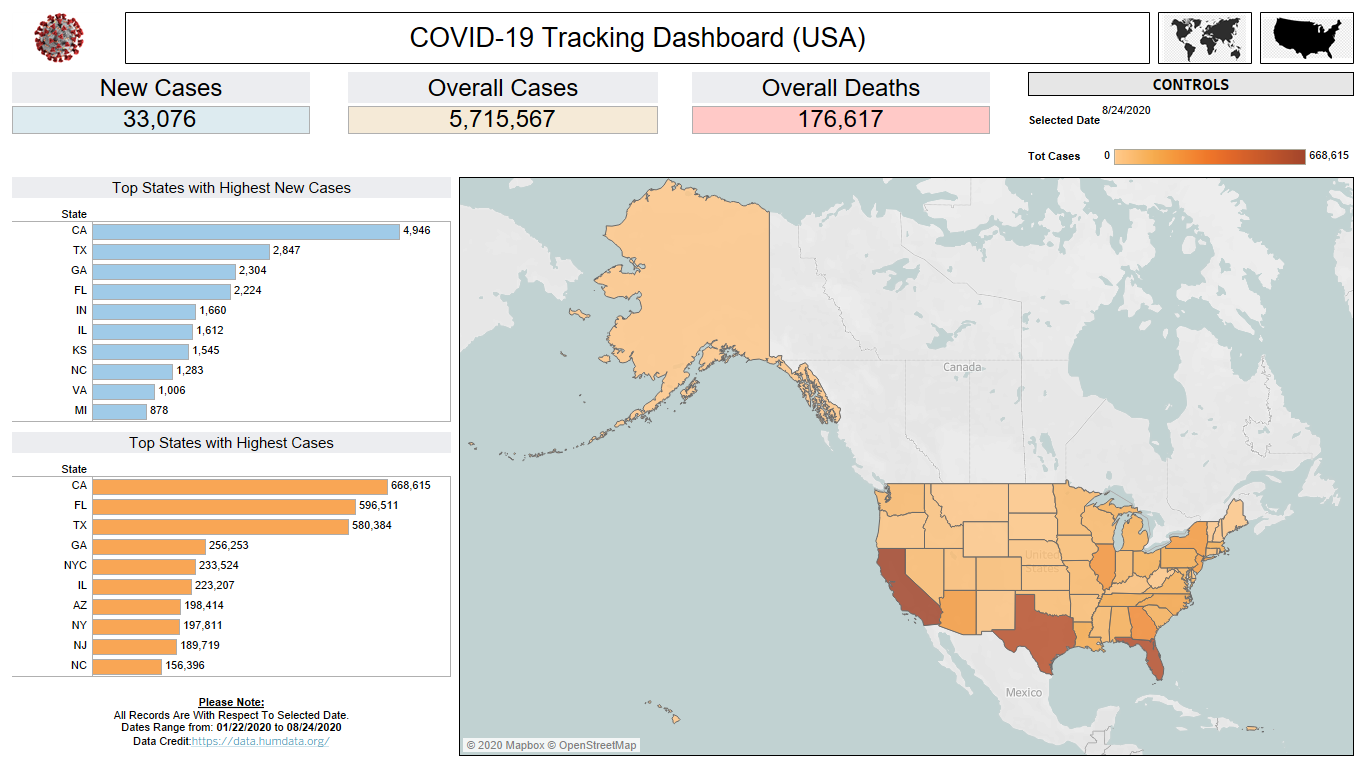

What the dashboard file says about the page in this screenshot:
{"tool":"tableau","page":{"name":"COVID 19 USA","canvas":[1366,768],"ordinal":1},"visuals":[{"type":"worksheet","box":[0,0,1366,768]},{"type":"worksheet","param":"horz","box":[8,8,1350,752]},{"type":"worksheet","box":[8,8,1350,752]},{"type":"worksheet","param":"Image/Covid.jpg","box":[8,8,113,60]},{"type":"worksheet","box":[121,8,1033,60]},{"type":"worksheet","box":[1154,8,102,60]},{"type":"worksheet","box":[1256,8,102,60]},{"type":"worksheet","param":"horz","box":[8,68,1350,692]},{"type":"worksheet","param":"horz","box":[8,68,1350,692]},{"type":"worksheet","param":"horz","box":[8,68,1350,692]},{"type":"worksheet","param":"horz","box":[8,68,1350,692]},{"type":"worksheet","box":[8,68,1350,692]},{"type":"worksheet","title":"USA New Cases","mark":"Automatic","box":[8,68,336,105]},{"type":"worksheet","title":"USA Overall Cases","mark":"Automatic","box":[344,68,344,105]},{"type":"worksheet","title":"USA Deaths","mark":"Automatic","box":[688,68,336,105]},{"type":"worksheet","box":[1024,68,334,32]},{"type":"worksheet","title":"USA_Map","mark":"Automatic","param":"[federated.086q8de1cc8fks166mtil0eheaoq].[none:submission_date:ok]","box":[1024,100,334,41]},{"type":"worksheet","title":"USA_Map","mark":"Automatic","param":"[federated.086q8de1cc8fks166mtil0eheaoq].[sum:tot_cases:qk]","box":[1024,141,334,32]},{"type":"worksheet","param":"horz","box":[8,173,1350,587]},{"type":"worksheet","box":[8,173,1350,587]},{"type":"worksheet","title":"Top USA New Cases","mark":"Automatic","rows":["state"],"cols":["new_case"],"box":[8,173,447,255.3]},{"type":"worksheet","title":"USA_Map","mark":"Automatic","box":[455,173,903,587]},{"type":"worksheet","title":"Top USA Cases","mark":"Automatic","rows":["state"],"cols":["tot_cases"],"box":[8,428.3,447,256.3]},{"type":"worksheet","box":[8,684.6,447,75.4]}]}

Visuals, with their boxes in screenshot pixels (x1, y1, x2, y2), scaled from the page's 1366x768 canvas onto the 1366x768 screenshot:
worksheet: 0 0 1365 767
worksheet: 8 8 1358 760
worksheet: 8 8 1358 760
worksheet: 8 8 121 68
worksheet: 121 8 1154 68
worksheet: 1154 8 1256 68
worksheet: 1256 8 1358 68
worksheet: 8 68 1358 760
worksheet: 8 68 1358 760
worksheet: 8 68 1358 760
worksheet: 8 68 1358 760
worksheet: 8 68 1358 760
"USA New Cases" worksheet: 8 68 344 173
"USA Overall Cases" worksheet: 344 68 688 173
"USA Deaths" worksheet: 688 68 1024 173
worksheet: 1024 68 1358 100
"USA_Map" worksheet: 1024 100 1358 141
"USA_Map" worksheet: 1024 141 1358 173
worksheet: 8 173 1358 760
worksheet: 8 173 1358 760
"Top USA New Cases" worksheet: 8 173 455 428
"USA_Map" worksheet: 455 173 1358 760
"Top USA Cases" worksheet: 8 428 455 685
worksheet: 8 685 455 760
